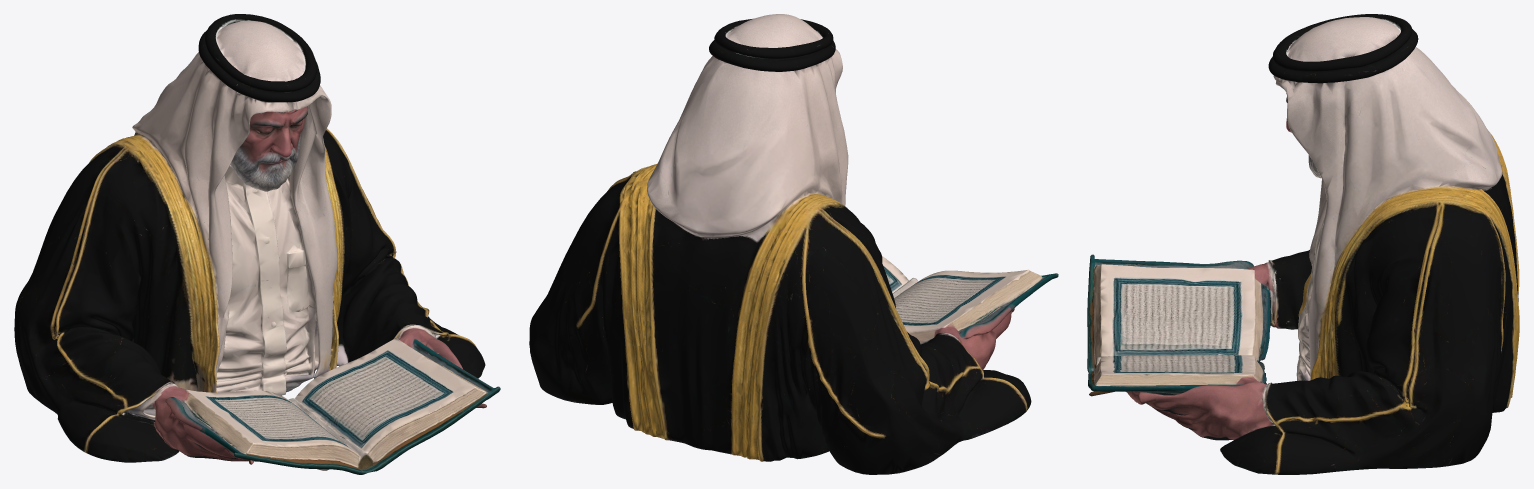
File: reciter_old.glb
3 views of the same model, side by side, from view 1: azimuth 30°, elevation 25°; view 2: azimuth 150°, elevation 25°; view 3: azimuth 270°, elevation 25° (orthographic). The views are drawn at different scales.
Bounding box in the file's own units: 1.19 × 0.9998 × 1.09.
Materials: 1 (1 with a texture image).
